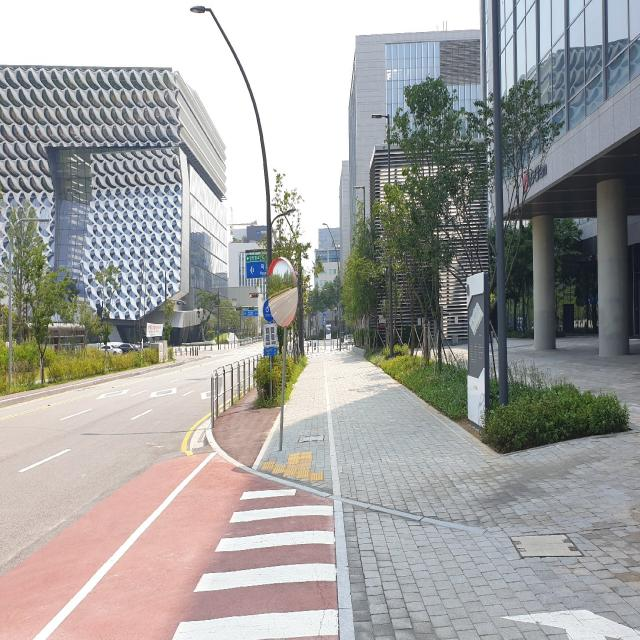횡단보도: (171, 486, 341, 639)
